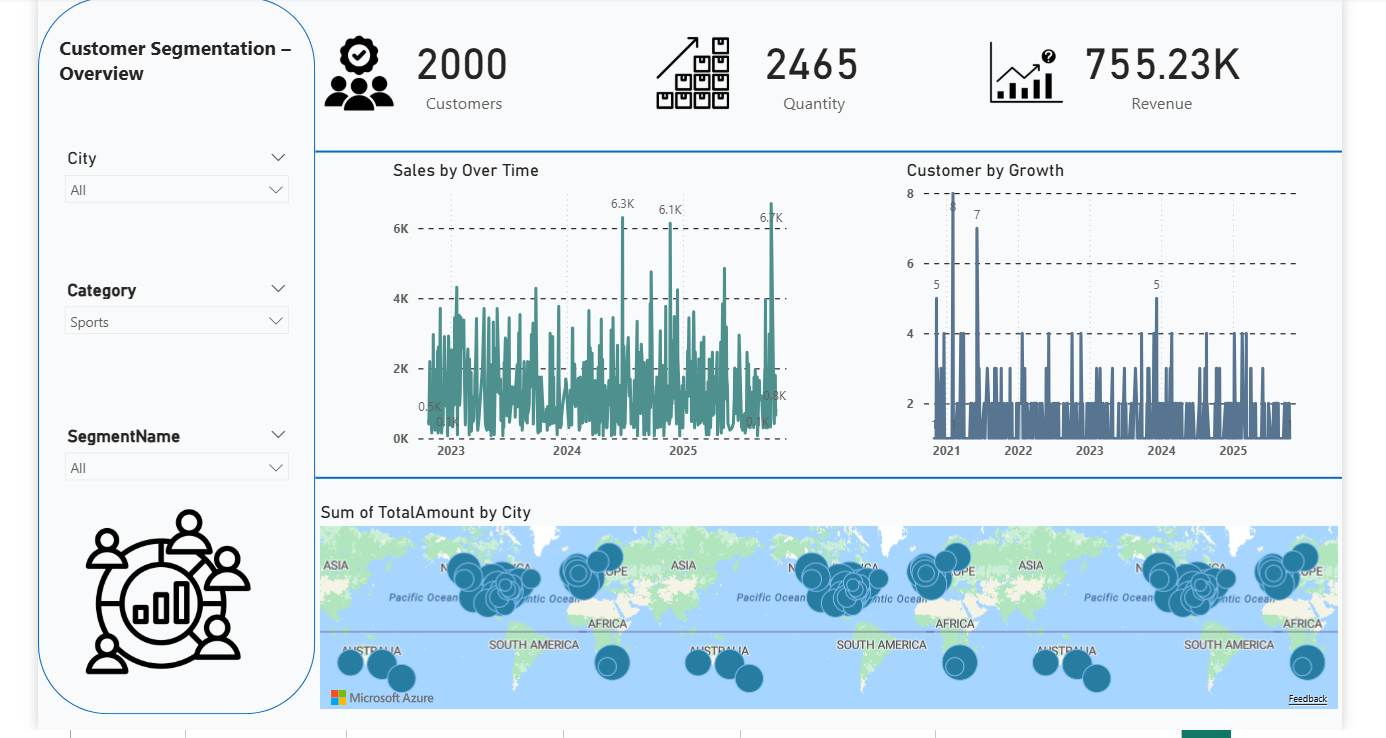

This screenshot's page, from the dashboard's own definition file:
{"tool":"powerbi","page":{"name":"Overview","canvas":[1280,720],"ordinal":0},"visuals":[{"type":"shape","box":[272,96,1008,112],"z":0},{"type":"shape","box":[272,416,1008,112],"z":1000},{"type":"shape","box":[0,0,272,704],"z":2000},{"type":"card","fields":{"Values":["Sum(Orders.Quantity)"]},"box":[648,16,224,112],"z":3000},{"type":"card","fields":{"Values":["Sum(Orders.TotalAmount)"]},"box":[992,16,224,112],"z":4000},{"type":"lineChart","fields":{"Category":["Orders.OrderDate"],"Y":["Sum(Orders.TotalAmount)"]},"box":[344,160,400,304],"z":5000},{"type":"areaChart","fields":{"Category":["Customers.JoinDate"],"Y":["CountNonNull(Orders.CustomerID)"]},"box":[848,160,400,304],"z":6000},{"type":"azureMap","fields":{"Category":["Customers.City"],"Size":["Sum(Orders.TotalAmount)"]},"box":[272,496,1008,208],"z":7000},{"type":"slicer","fields":{"Values":["Customers.City"]},"box":[16,144,240,160],"z":8000},{"type":"slicer","fields":{"Values":["Products.Category"]},"box":[16,272,240,144],"z":9000},{"type":"slicer","fields":{"Values":["Segments.SegmentName"]},"box":[16,416,240,144],"z":10000},{"type":"card","fields":{"Values":["Orders.Total Customers"]},"box":[304,16,224,112],"z":11000},{"type":"textbox","box":[16,32,256,80],"z":12000},{"type":"image","box":[928,32,86,86],"z":13000},{"type":"image","box":[600,32,86,86],"z":14000},{"type":"image","box":[272,32,86,86],"z":15000},{"type":"image","box":[32,496,192,176],"z":16000}]}

Visuals, with their boxes on the page's 1280x720 design canvas (x1, y1, x2, y2). These are canvas units, not pixel positions in the 1386x738 screenshot, which may show the page scaled, cropped or inside an application window:
shape: x1=272, y1=96, x2=1280, y2=208
shape: x1=272, y1=416, x2=1280, y2=528
shape: x1=0, y1=0, x2=272, y2=704
card - Sum(Orders.Quantity): x1=648, y1=16, x2=872, y2=128
card - Sum(Orders.TotalAmount): x1=992, y1=16, x2=1216, y2=128
lineChart - Orders.OrderDate x Sum(Orders.TotalAmount): x1=344, y1=160, x2=744, y2=464
areaChart - Customers.JoinDate x CountNonNull(Orders.CustomerID): x1=848, y1=160, x2=1248, y2=464
azureMap - Customers.City x Sum(Orders.TotalAmount): x1=272, y1=496, x2=1280, y2=704
slicer - Customers.City: x1=16, y1=144, x2=256, y2=304
slicer - Products.Category: x1=16, y1=272, x2=256, y2=416
slicer - Segments.SegmentName: x1=16, y1=416, x2=256, y2=560
card - Orders.Total Customers: x1=304, y1=16, x2=528, y2=128
textbox: x1=16, y1=32, x2=272, y2=112
image: x1=928, y1=32, x2=1014, y2=118
image: x1=600, y1=32, x2=686, y2=118
image: x1=272, y1=32, x2=358, y2=118
image: x1=32, y1=496, x2=224, y2=672
